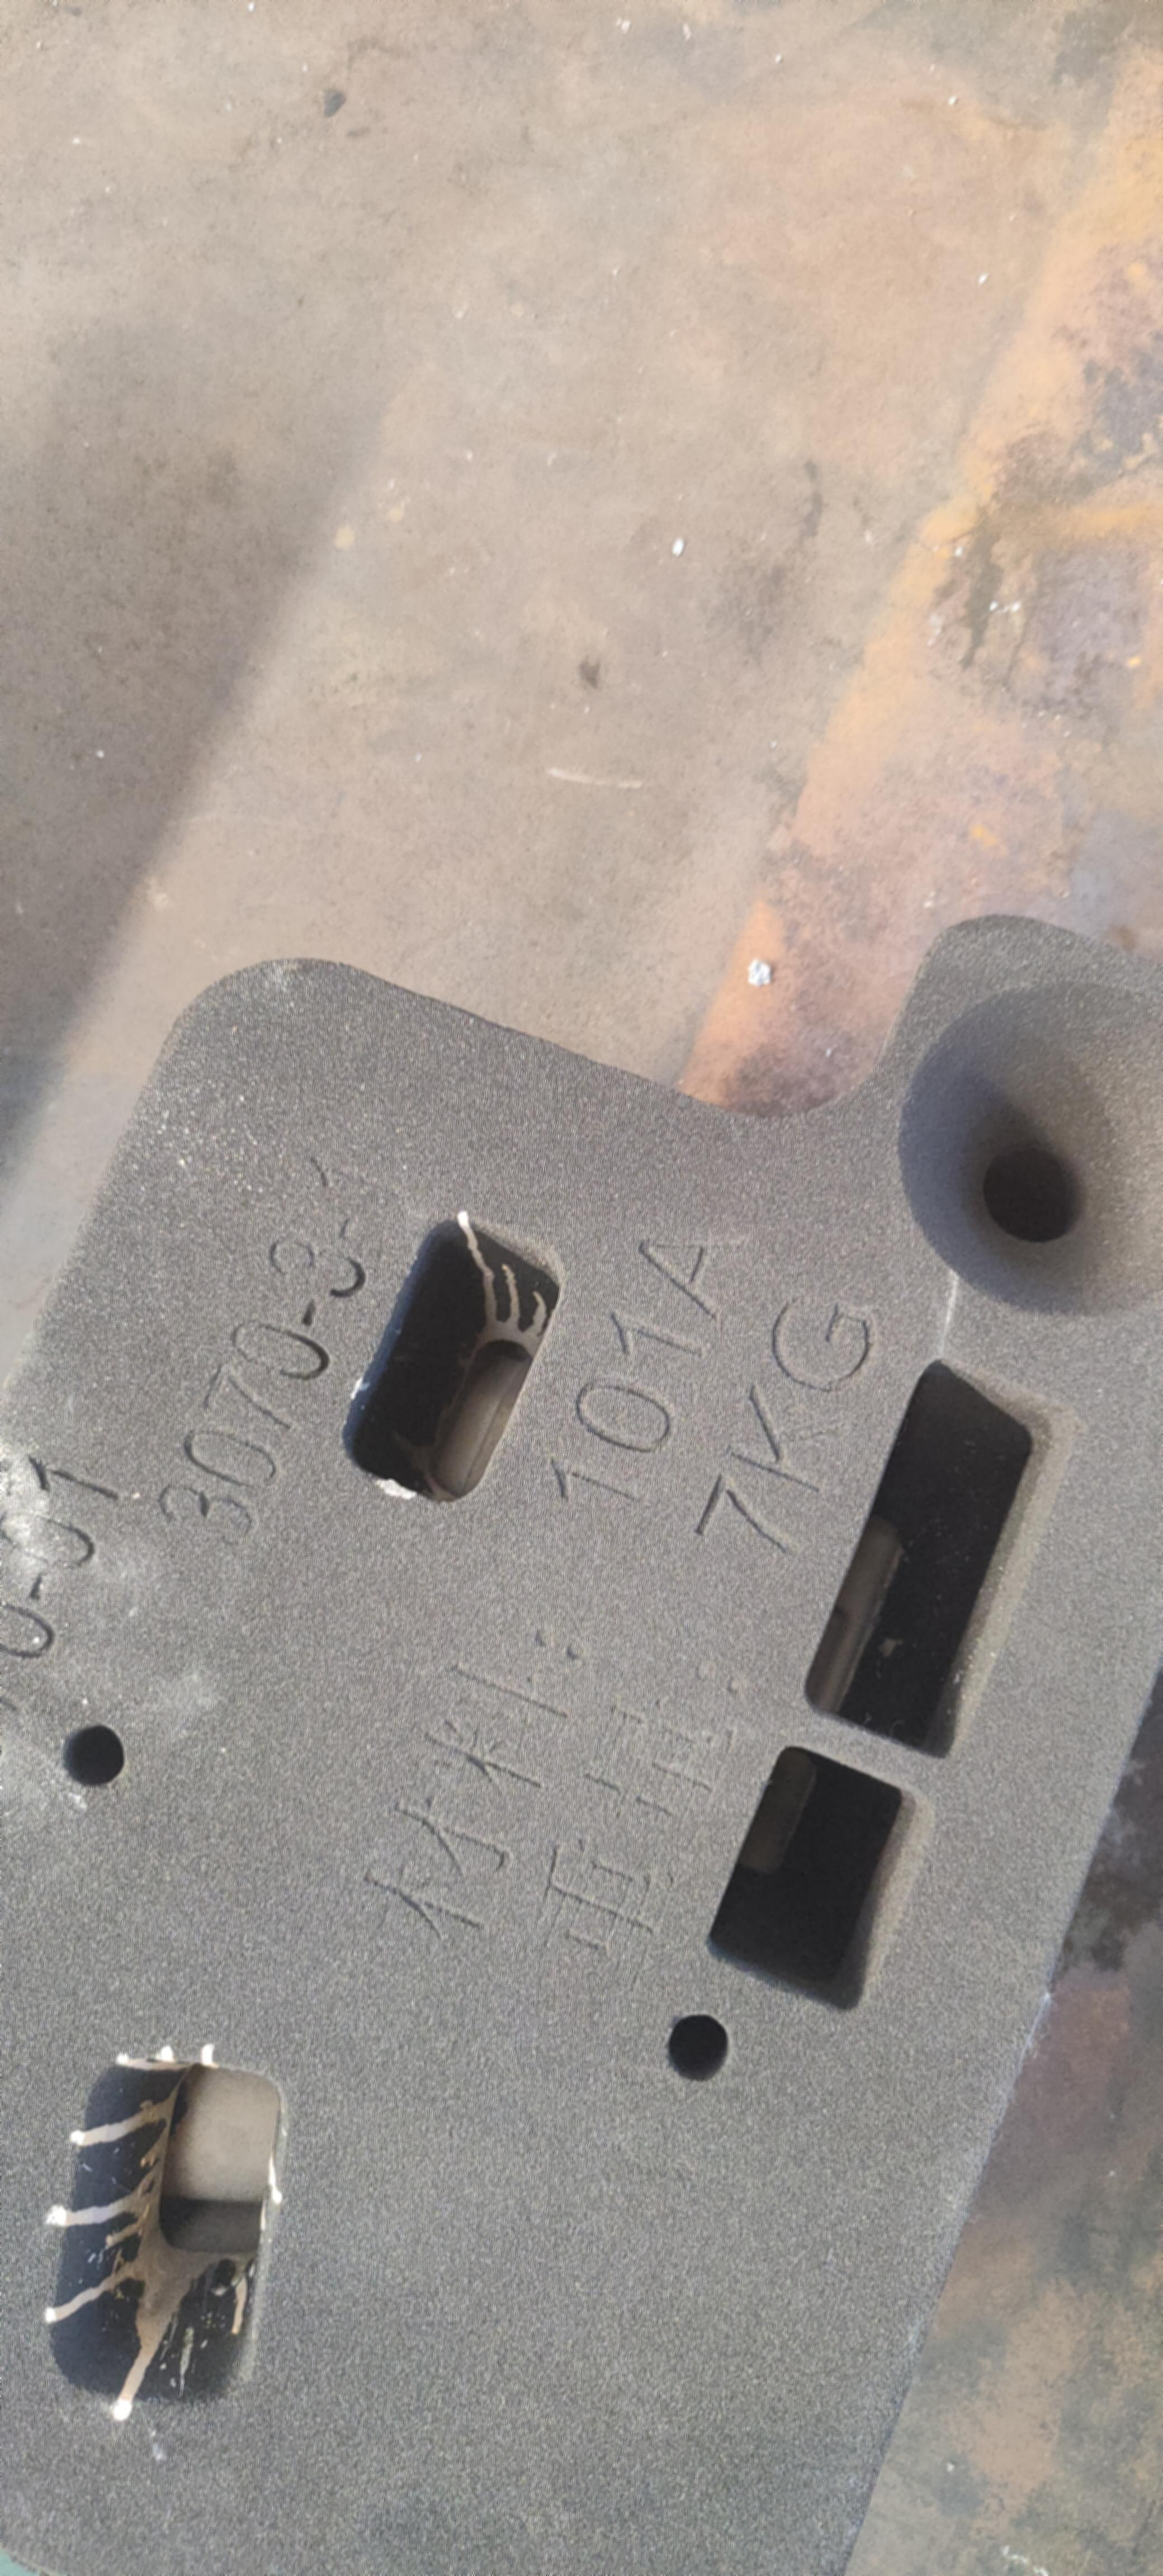pouring hole: (895, 978, 1163, 1322)
